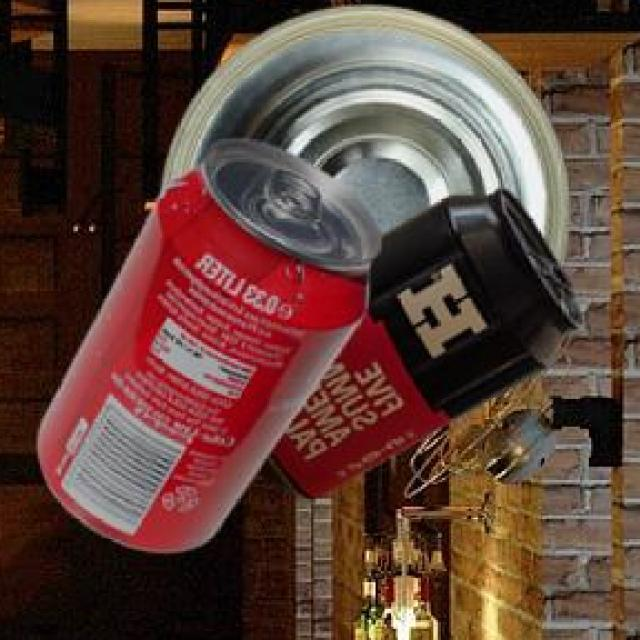logam: (34, 143, 377, 554), (159, 8, 568, 270), (257, 192, 579, 503)
